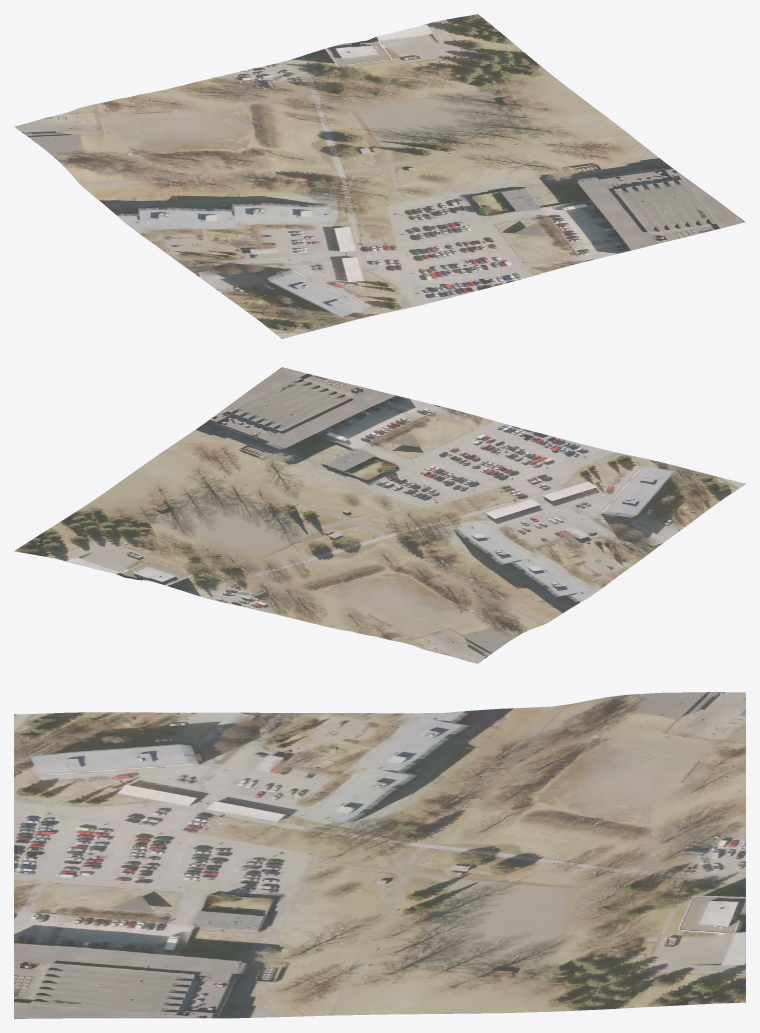
File: CM_Terrain_24490049_6820613.fbx
3 renders of one model, top to bottom at view 1: azimuth 30°, elevation 25°; view 2: azimuth 150°, elevation 25°; view 3: azimuth 270°, elevation 25°, orthographic. The views are drawn at different scales.
Parts seen in each view (by area): view 1: CM_Terrain_24490049_6820613_LOD0; view 2: CM_Terrain_24490049_6820613_LOD0; view 3: CM_Terrain_24490049_6820613_LOD0.
Part boxes in pixels (<box>): CM_Terrain_24490049_6820613_LOD0: <box>14,14,745,338</box>; CM_Terrain_24490049_6820613_LOD0: <box>14,367,745,663</box>; CM_Terrain_24490049_6820613_LOD0: <box>14,692,745,1018</box>.
Size of what is drawn, in the model's own units: 205 by 8.15 by 205.
